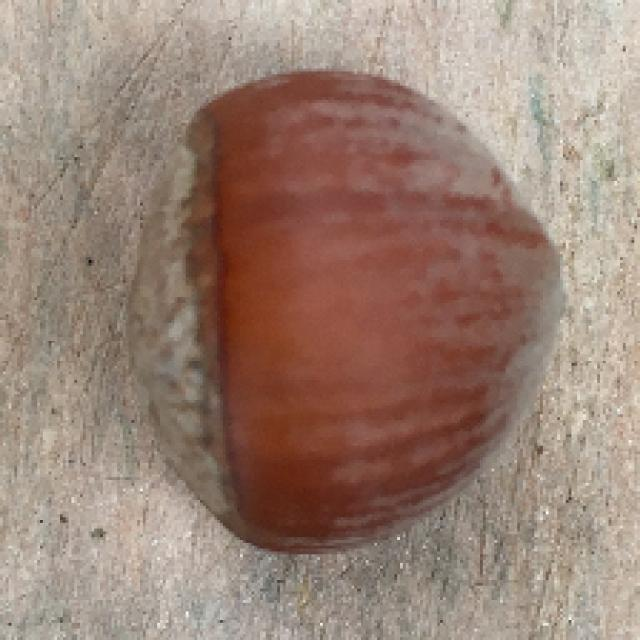qualityHazelnut: (129, 70, 569, 555)
